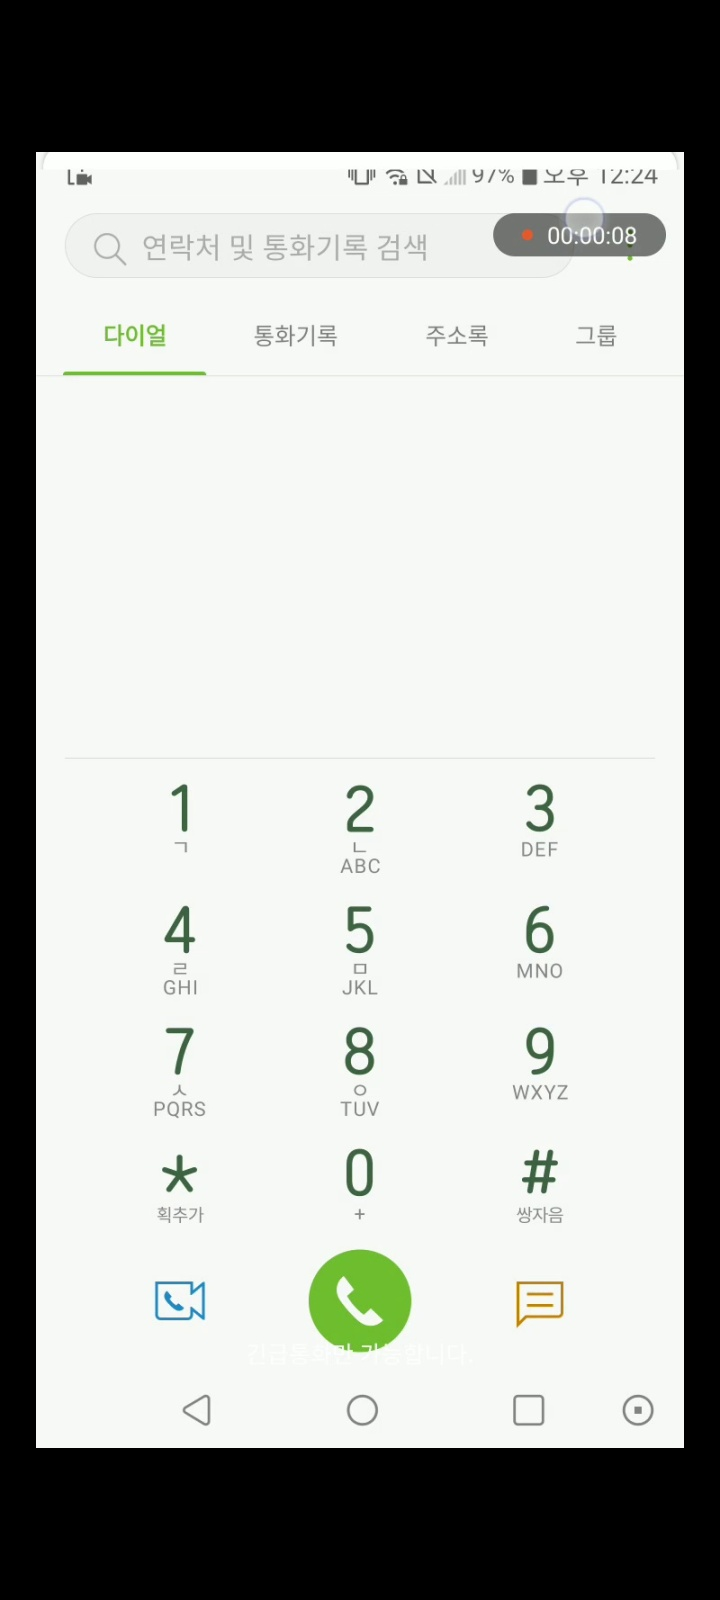Cursor: (562, 195, 607, 241)
